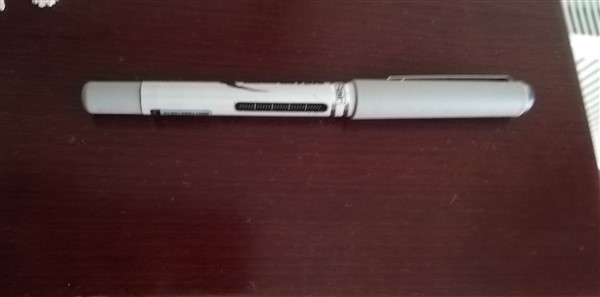pilot kalem: (72, 71, 539, 128)
